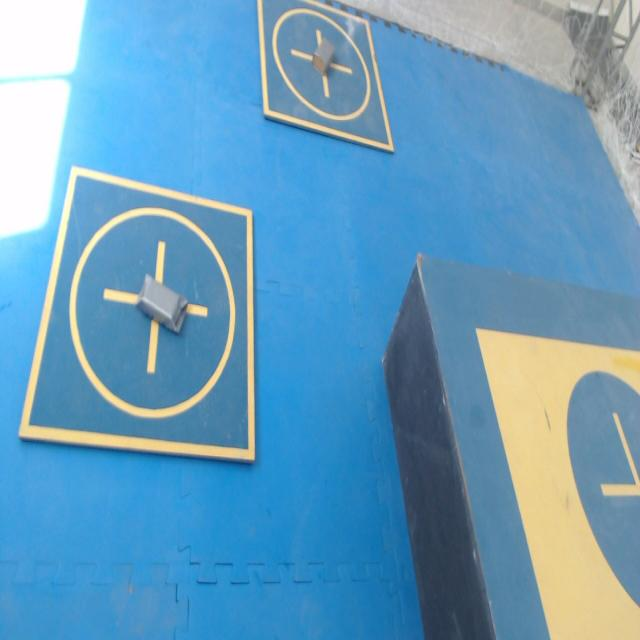lipo: (136, 274, 187, 332), (313, 40, 334, 74)
